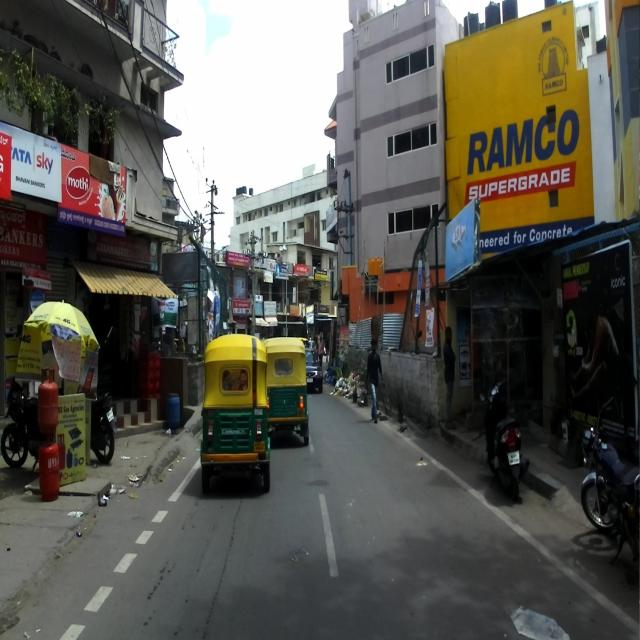autorickshaw: (200, 333, 270, 495), (264, 336, 310, 446)
motorcycle: (580, 396, 640, 566), (61, 377, 117, 464)
scooter: (478, 359, 530, 503)
